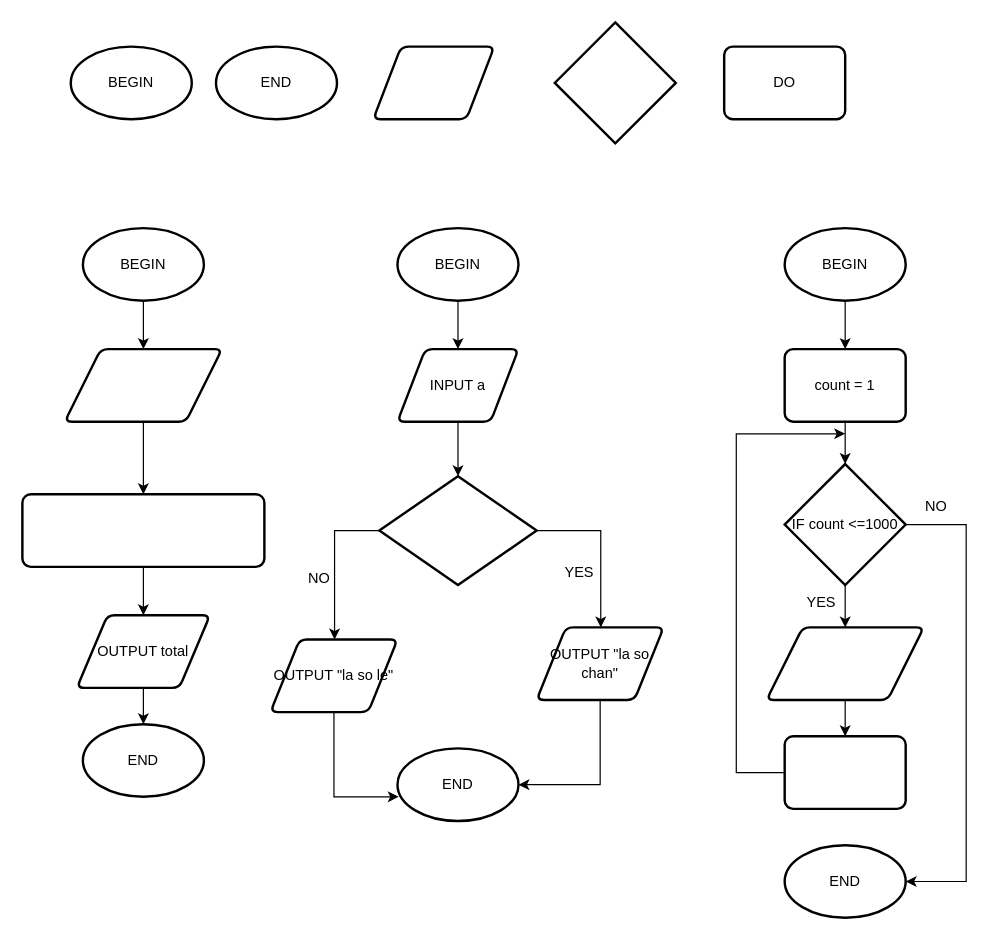
The diagram is 997 pixels wide and 939 high, and some of its shapes have lost their labels. Here are the shapes that lost their labels. From the top down, the box of each, then its label:
(371, 45, 495, 120): INPUT/OUTPUT
(553, 21, 676, 144): IF/ELSE
(63, 347, 223, 422): INPUT number1, number 2
(21, 492, 265, 567): total = number1 + number2
(378, 474, 537, 586): IF a mod 2 = 0
(765, 626, 924, 701): OUTPUT "Hello world"
(783, 734, 906, 809): count = count + 1
